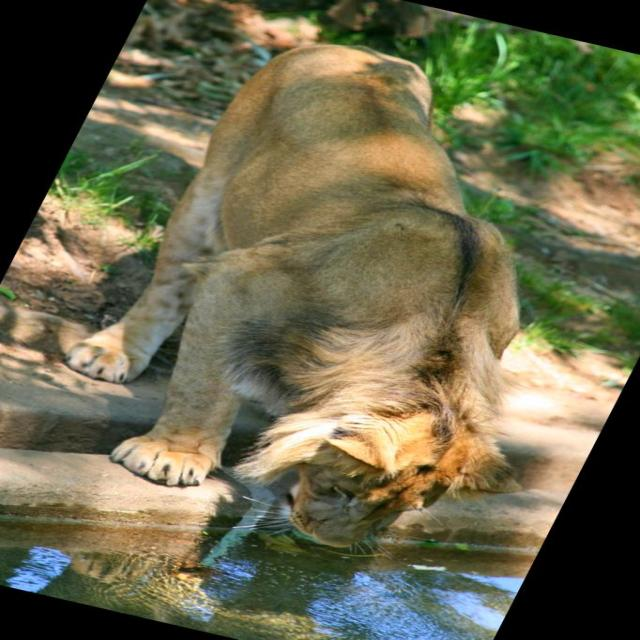Lion: (1, 16, 639, 586)
